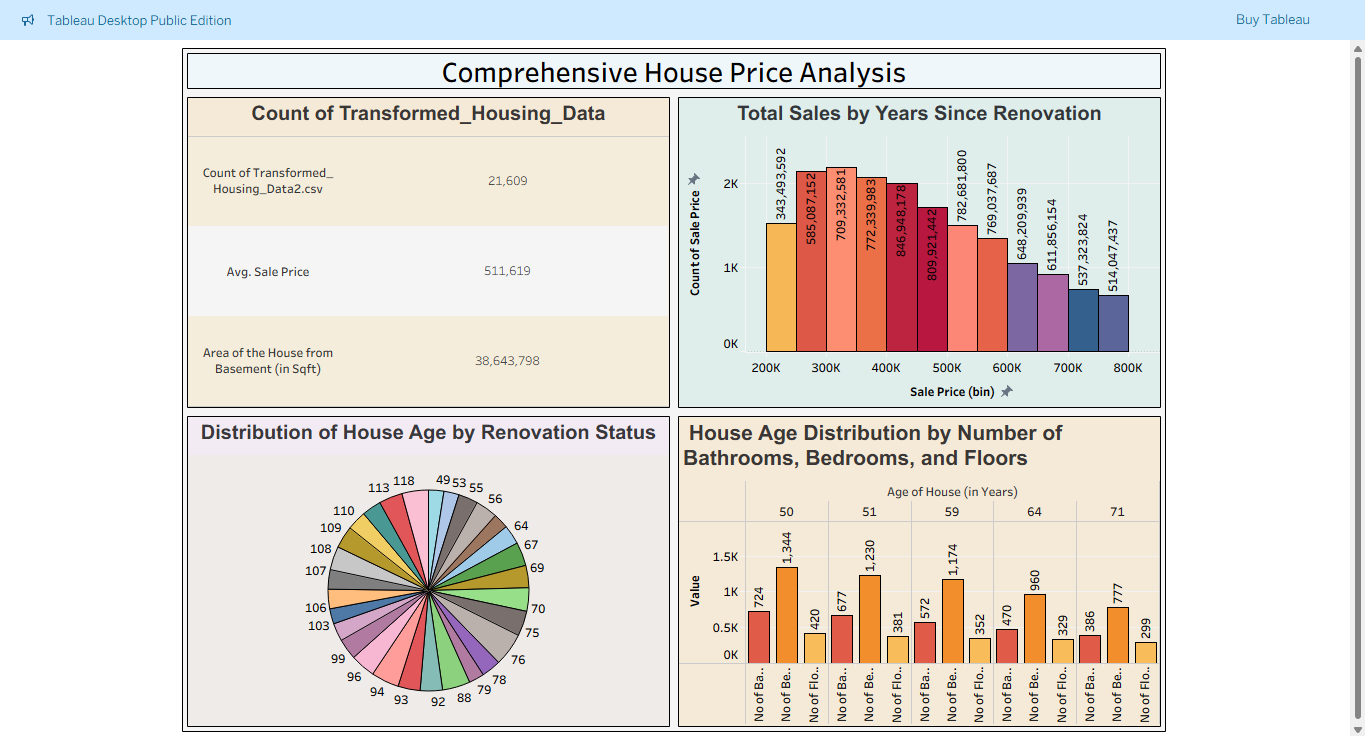

The dashboard page shown, as its layout file describes it:
{"tool":"tableau","page":{"name":"Dashboard 2","canvas":[1000,700],"ordinal":0},"visuals":[{"type":"text","box":[9,9,982,43.9]},{"type":"worksheet","title":"Count of Transformed_Housing_Data","mark":"Automatic","box":[9,52.9,491,319.1]},{"type":"worksheet","title":"Total Sales by Years Since Renovation","mark":"Automatic","rows":["Sale_Price"],"cols":["Sale Price (bin)"],"box":[500,52.9,491,319.1]},{"type":"worksheet","title":"Distribution of House Age by Renovation Status","mark":"Pie","box":[9,371.9,491,319.1]},{"type":"worksheet","title":" House Age Distribution by Number of Bathrooms, Bedrooms, and Floors","mark":"Automatic","cols":["Age of House (in Years)"],"box":[500,371.9,491,319.1]}]}

Visuals, with their boxes in screenshot pixels (x1, y1, x2, y2):
text: bbox=(176, 45, 1158, 88)
"Count of Transformed_Housing_Data" worksheet: bbox=(176, 88, 667, 408)
"Total Sales by Years Since Renovation" worksheet: bbox=(667, 88, 1158, 408)
"Distribution of House Age by Renovation Status" worksheet (Pie marks): bbox=(176, 407, 667, 726)
" House Age Distribution by Number of Bathrooms, Bedrooms, and Floors" worksheet: bbox=(667, 407, 1158, 726)
